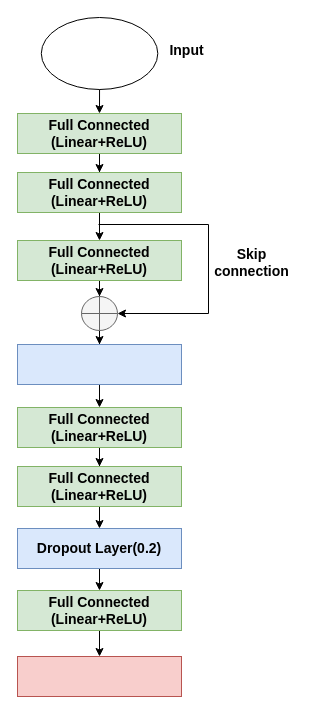
This 312x714 diagram has some shape labels left out. The shapes that lost their labels are listed below. From the top down, each one's box as (x1, y1, x2, y2) in pixels, then its label:
(40, 16, 158, 90): PV design and sea pressure
(16, 344, 182, 384): Dropout Layer (0.2)
(16, 656, 182, 696): Full Connected (Linear)
